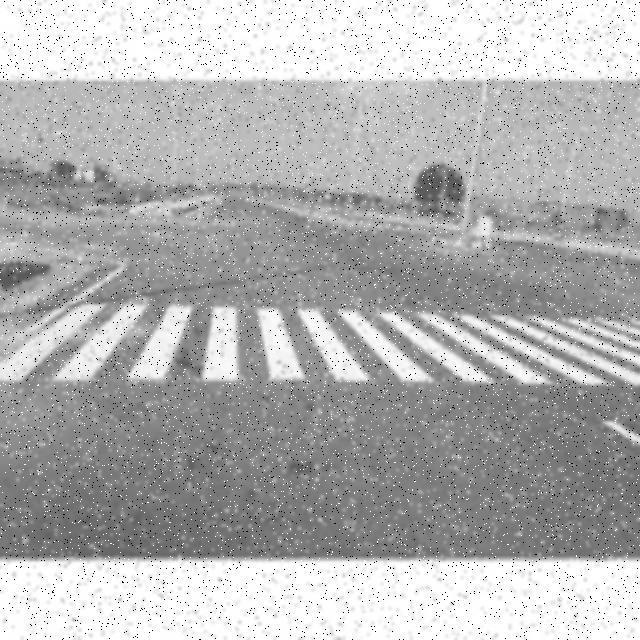Pedestrian crosswalk: (37, 276, 637, 442)
